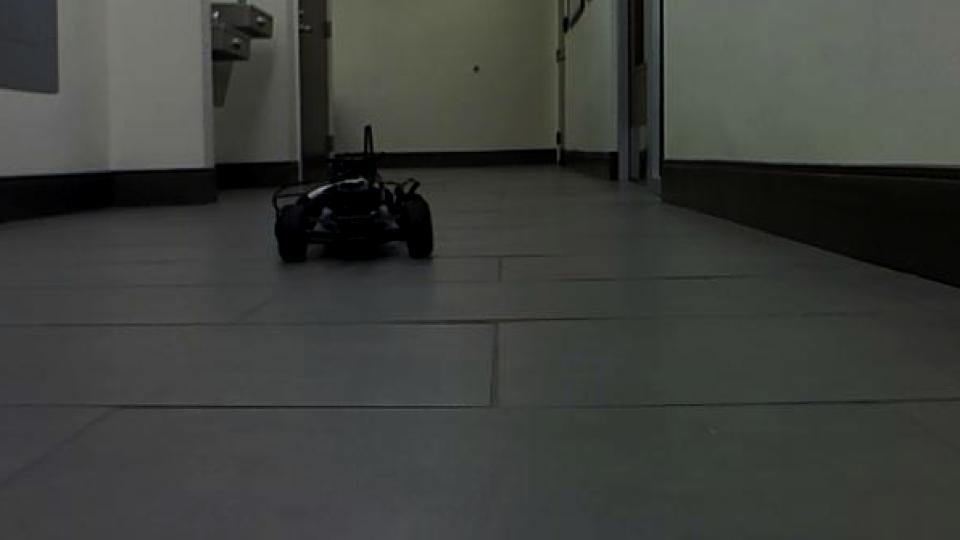car: (268, 123, 436, 265)
